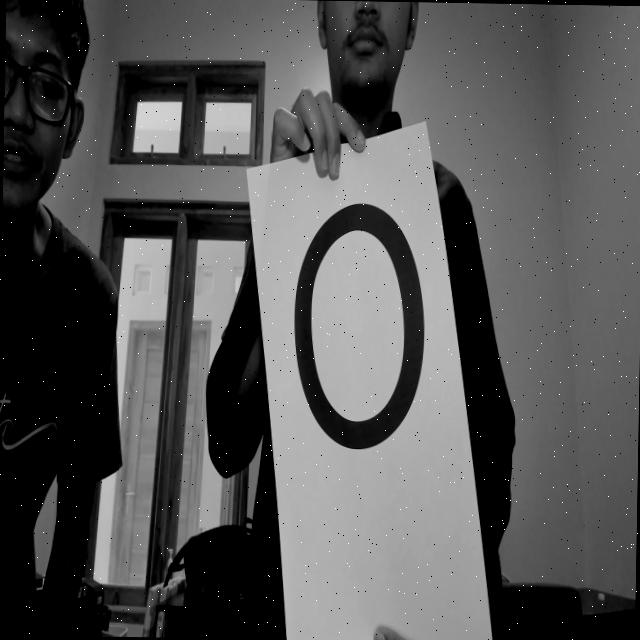o: (282, 175, 443, 486)
